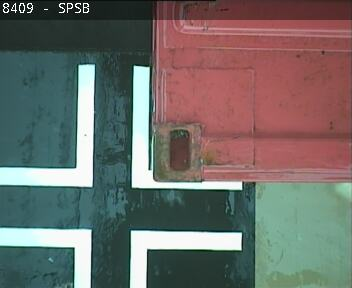groundmarker_1: (1, 66, 244, 189), (1, 227, 240, 288)
